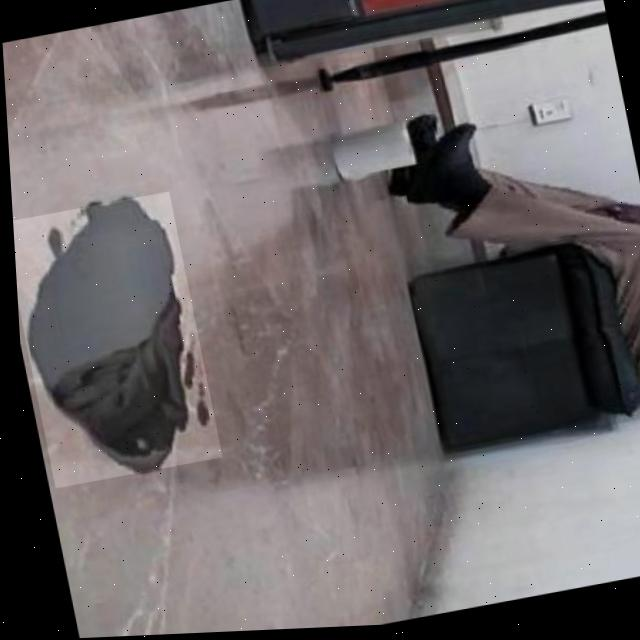spillage: (17, 198, 202, 469)
